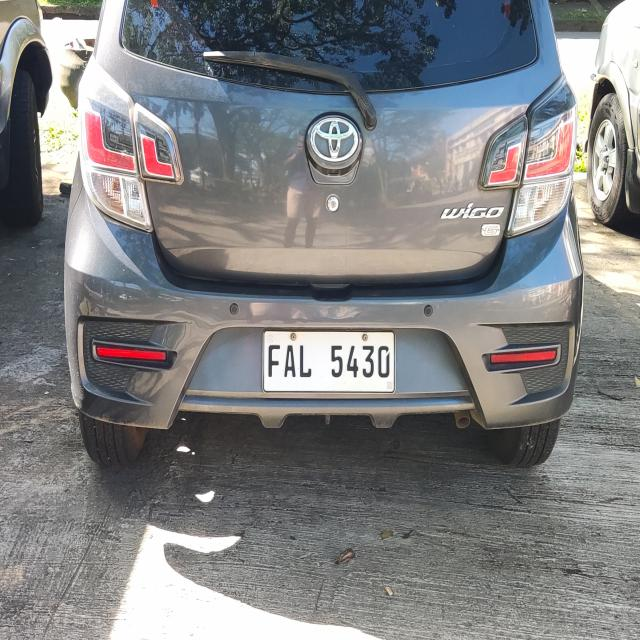plate: (261, 327, 398, 398)
